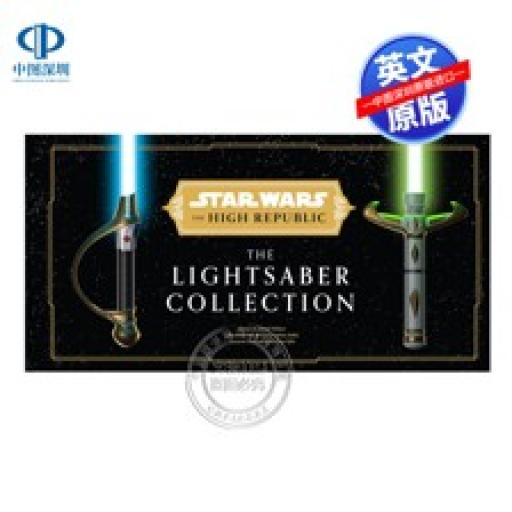lightsaber: (111, 133, 146, 350), (403, 143, 427, 351)
